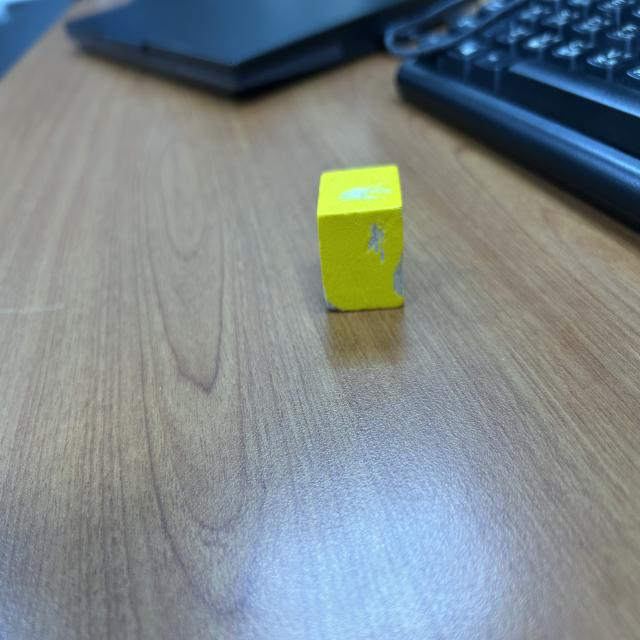broken: (316, 165, 406, 312)
